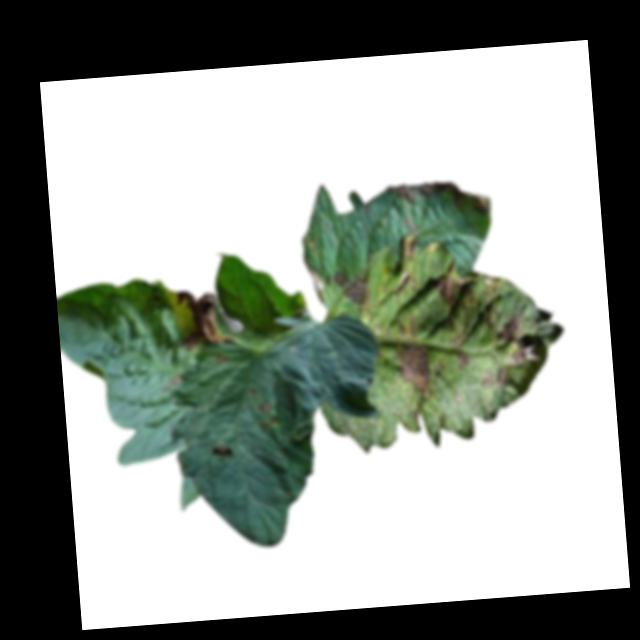Early_blight: (386, 176, 491, 222), (388, 310, 431, 402), (172, 288, 222, 352), (435, 268, 501, 316), (478, 343, 540, 392), (334, 271, 375, 320), (486, 302, 529, 346), (253, 400, 280, 434), (454, 348, 470, 372), (210, 444, 232, 459)
